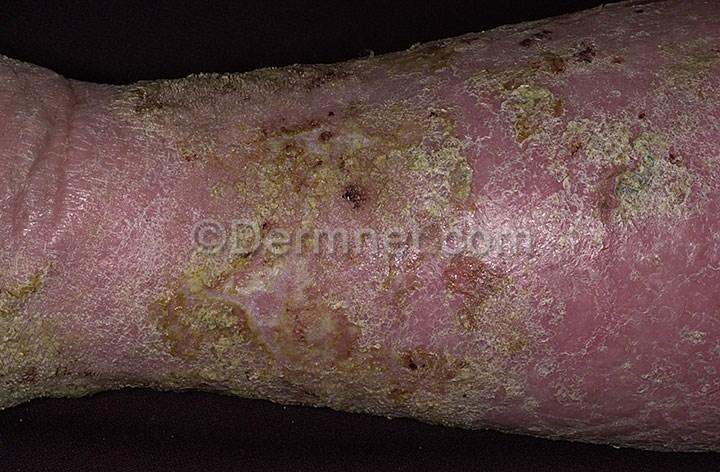Eczema: (433, 22, 702, 212), (538, 216, 720, 464), (138, 92, 433, 220), (286, 256, 536, 406), (8, 78, 132, 278), (138, 261, 283, 413), (3, 268, 134, 402)
